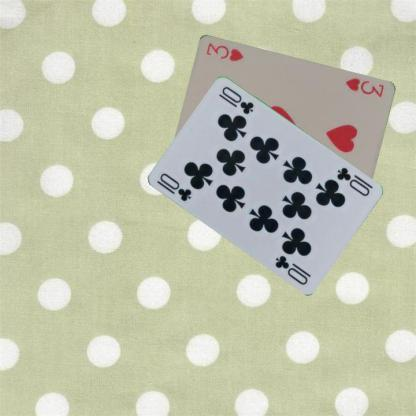10c: (333, 164, 374, 198), (156, 170, 192, 203)
3h: (342, 75, 384, 99)
